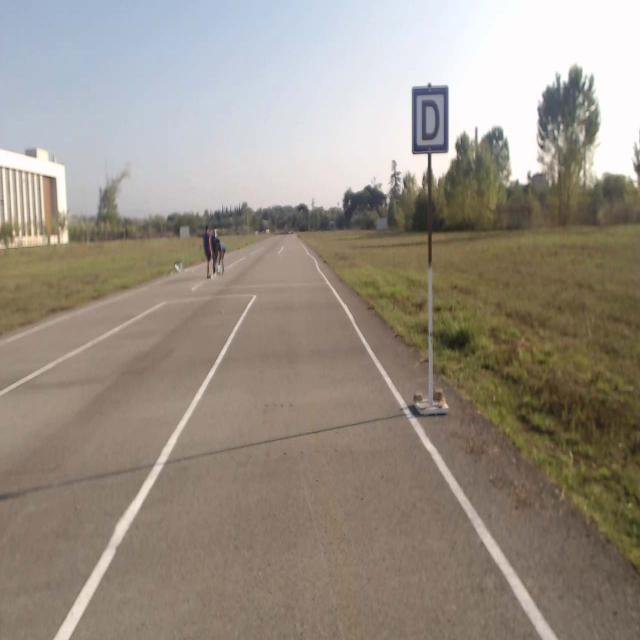durak: (412, 87, 448, 154)
